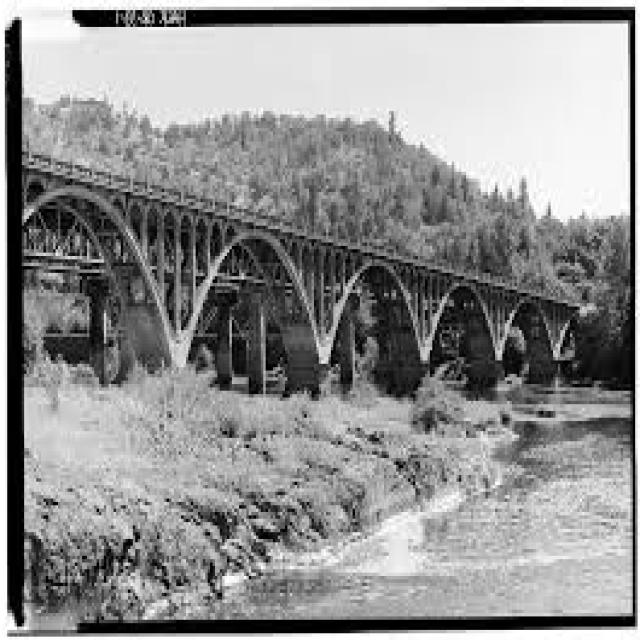Bridges: (26, 107, 605, 488)
